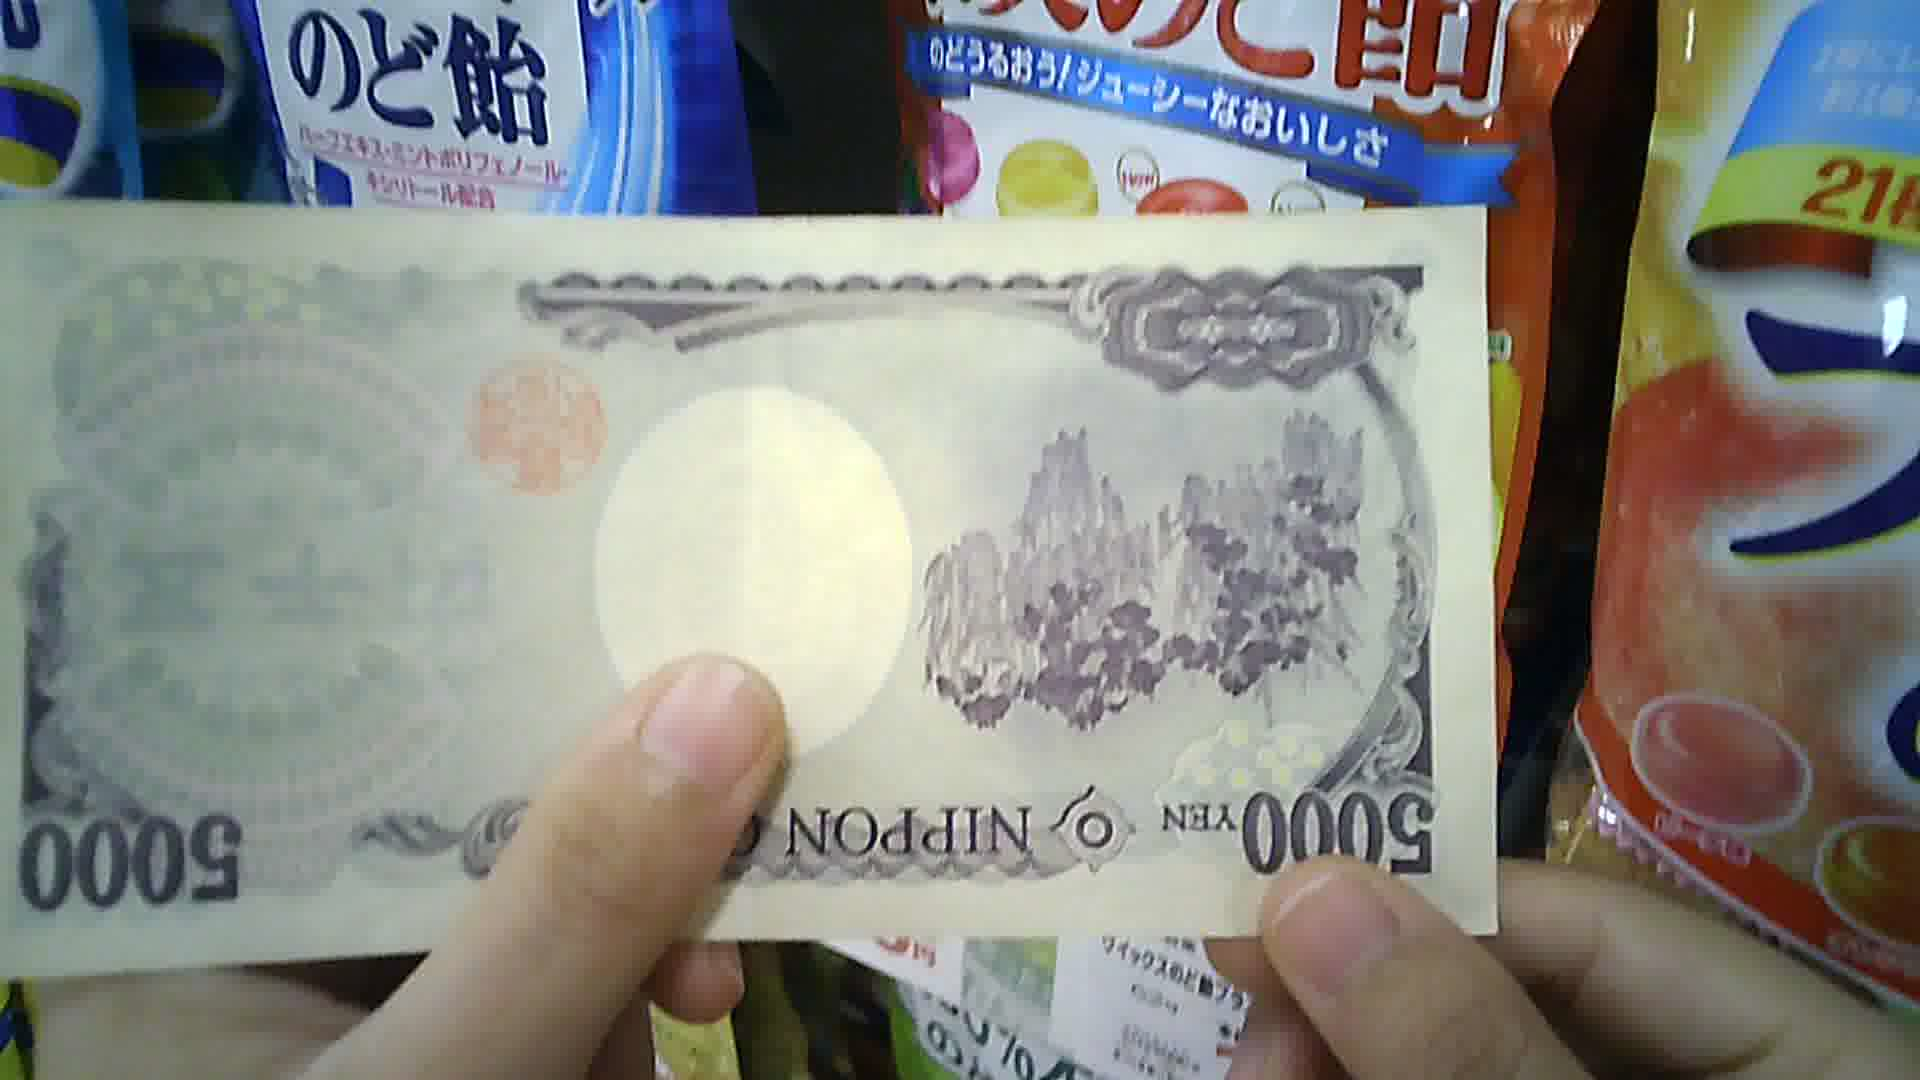5,000 Yen: (15, 183, 1491, 936)
